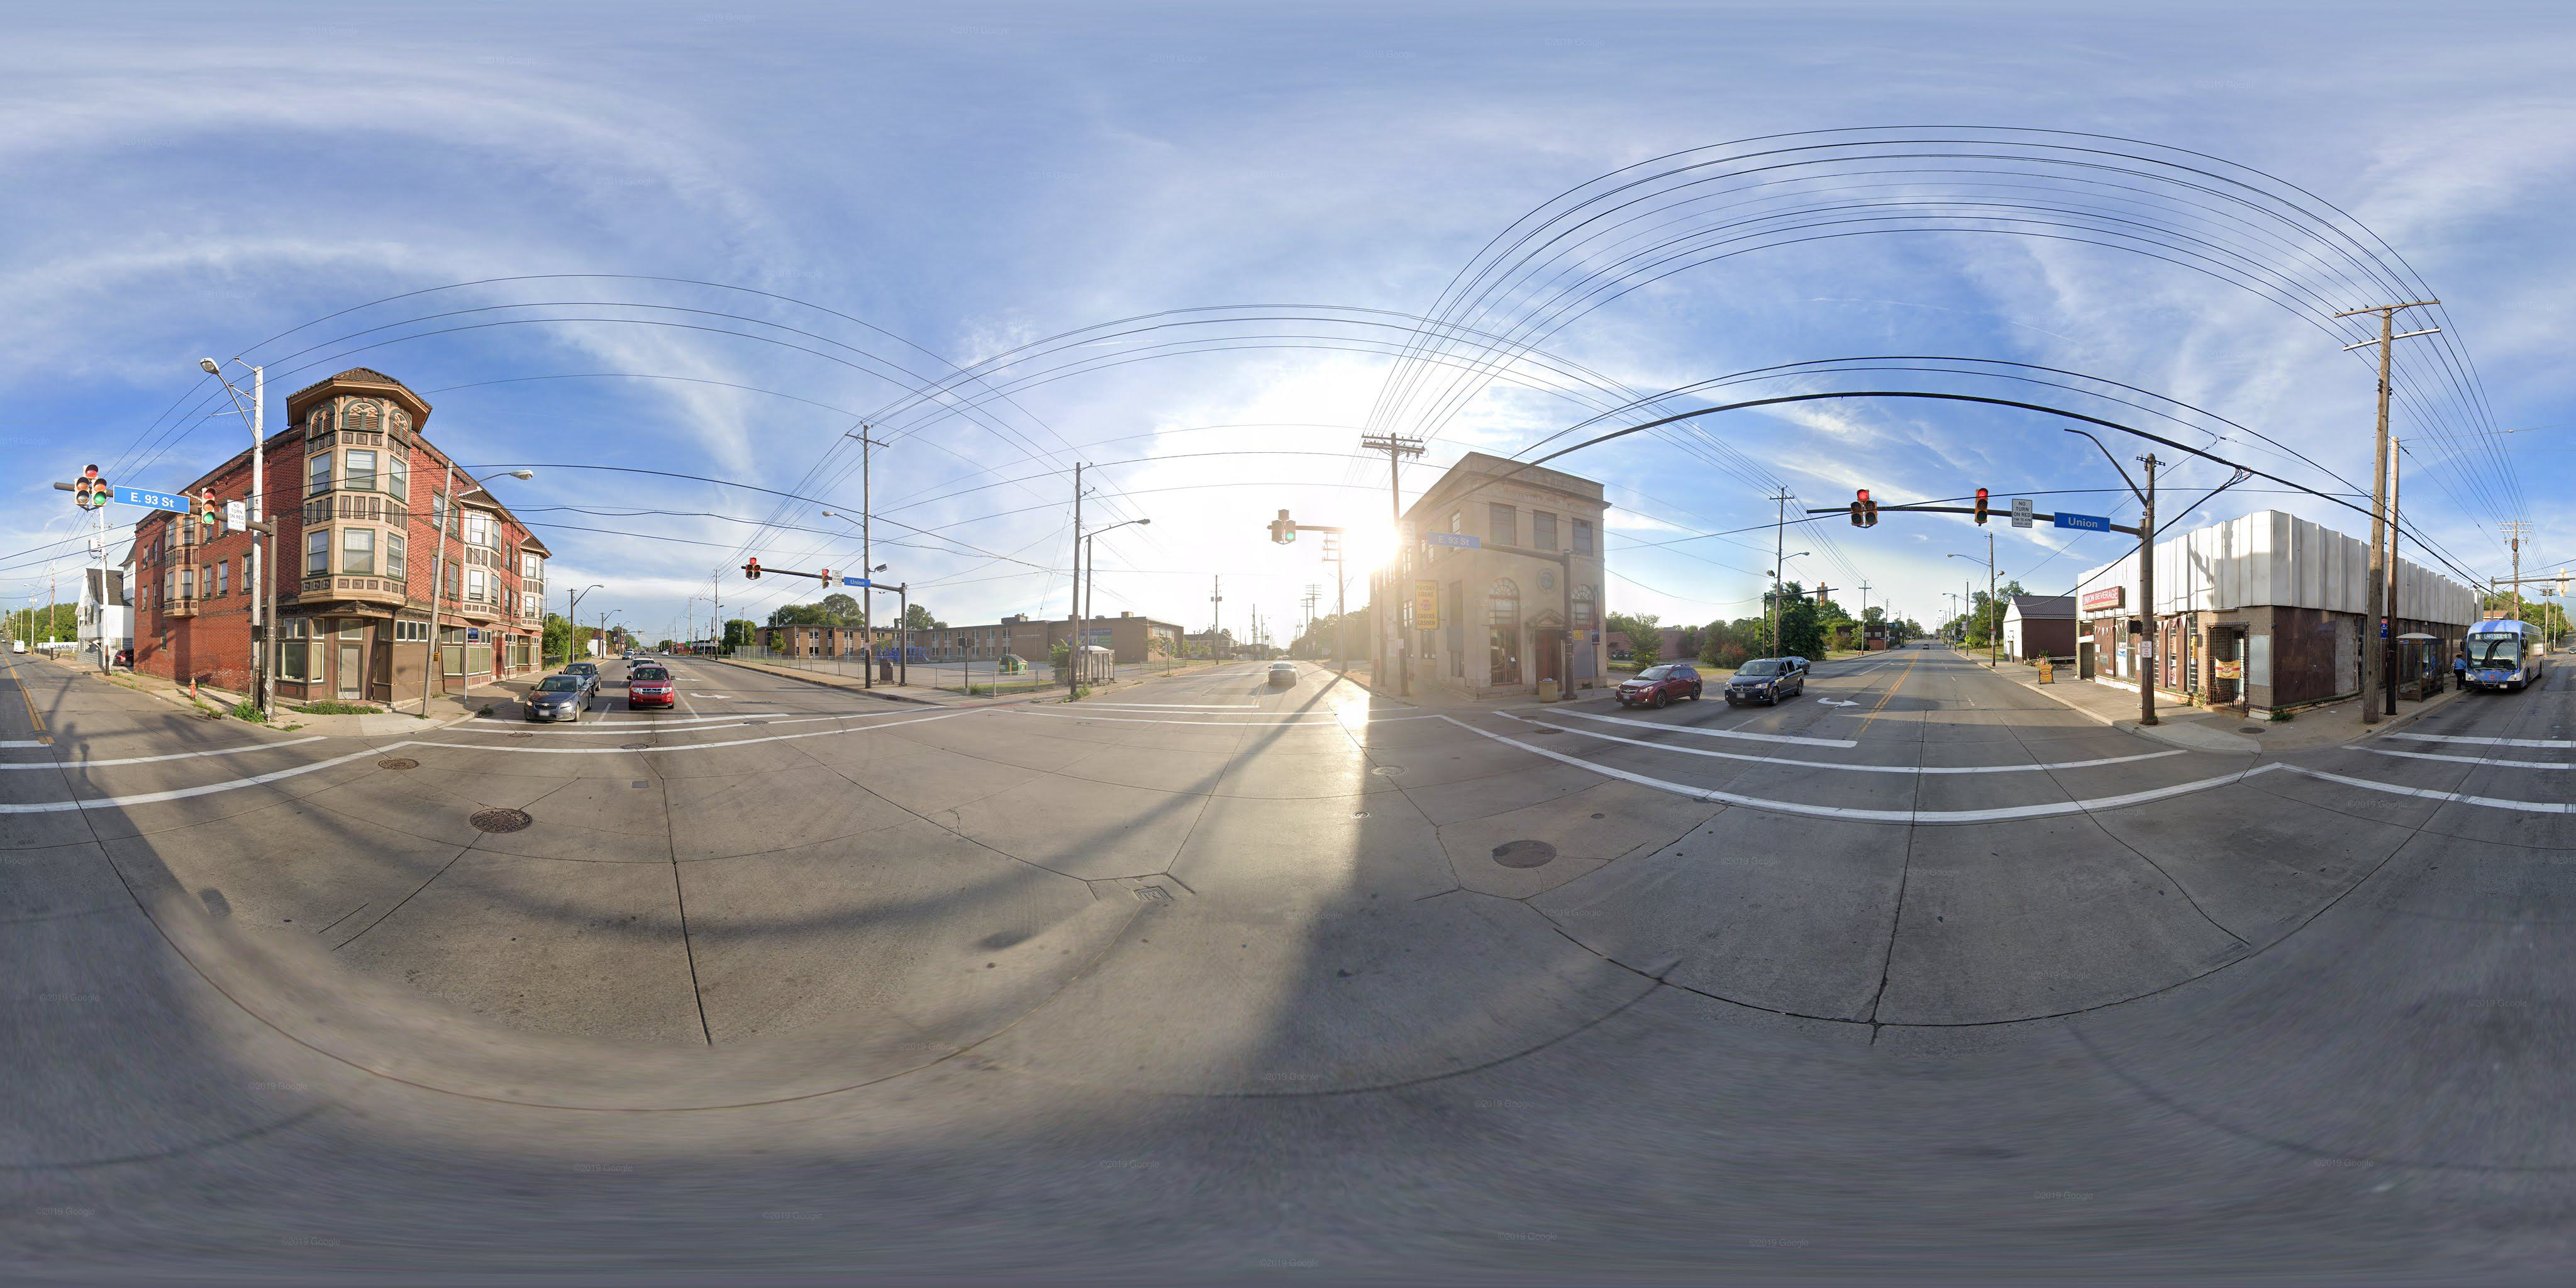Curb Ramp: (2141, 698, 2349, 772), (306, 708, 445, 752), (1411, 688, 1500, 733), (935, 687, 1028, 720)
